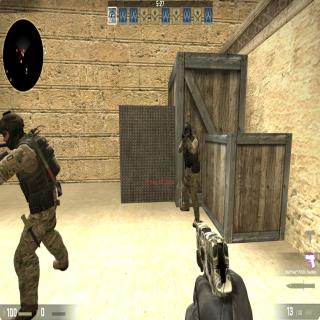CT-Body: (0, 108, 62, 318), (180, 122, 200, 221)
CT-Head: (0, 106, 26, 154), (182, 121, 193, 137)
